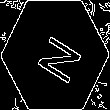N_NW: (27, 25, 83, 85)
